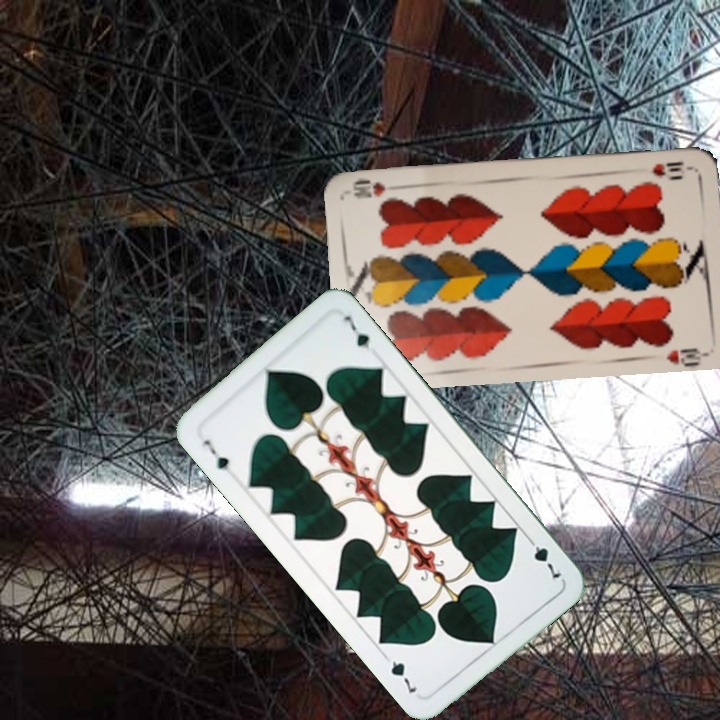G7: (523, 532, 564, 581), (199, 435, 232, 473)
H10: (648, 157, 686, 179)
